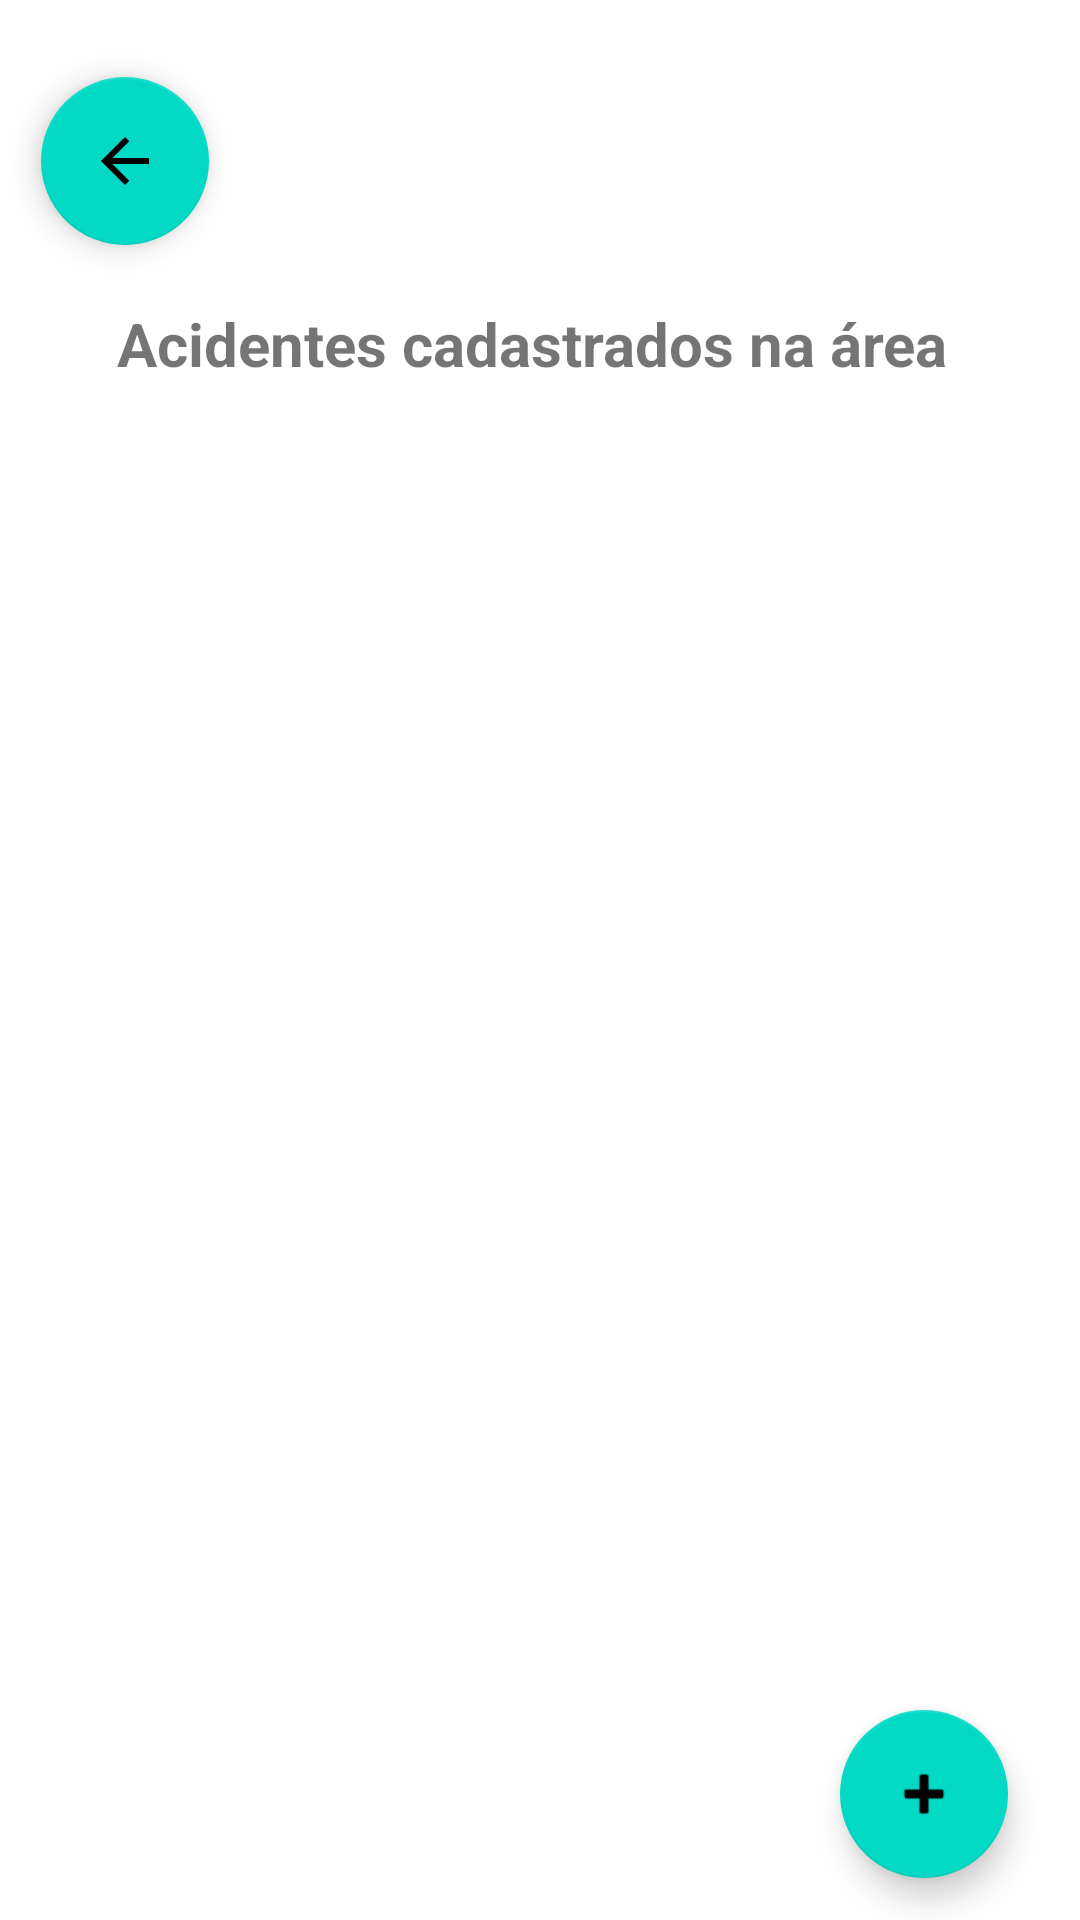

Icons on this 1080×1920 Android screen, each with the point to tap as (x,y):
add: (924,1794)
